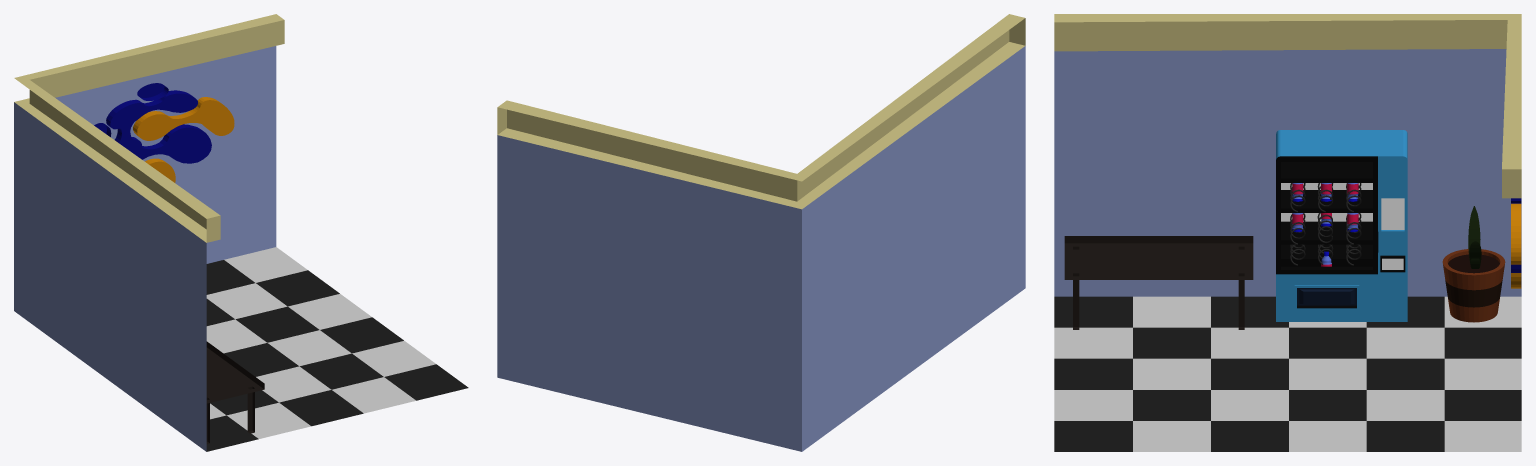
The model's file is AnimatedObject0046.obj.
3 renders of one model, left to right at view 1: azimuth 30°, elevation 25°; view 2: azimuth 150°, elevation 25°; view 3: azimuth 270°, elevation 25°, orthographic. The views are drawn at different scales.
Visible parts, largest first — view 1: ruangan_Cube.003, meja_Cube.004, logo_Circle.005, logo.001_Circle.001, logo.005_Circle.002; view 2: ruangan_Cube.003; view 3: ruangan_Cube.003, vending_machine_Cube.001, meja_Cube.004, pot_bunga_Cylinder, per_second\_Spiral.010, Plane.007, logo_Circle.005.
Part boxes in pixels (x1=…): ruangan_Cube.003: x1=14, y1=14, x2=468, y2=451; meja_Cube.004: x1=206, y1=341, x2=264, y2=444; logo_Circle.005: x1=133, y1=97, x2=234, y2=140; logo.001_Circle.001: x1=115, y1=124, x2=211, y2=163; logo.005_Circle.002: x1=106, y1=90, x2=197, y2=132; ruangan_Cube.003: x1=497, y1=14, x2=1025, y2=451; ruangan_Cube.003: x1=1054, y1=14, x2=1521, y2=451; vending_machine_Cube.001: x1=1276, y1=130, x2=1407, y2=321; meja_Cube.004: x1=1064, y1=236, x2=1253, y2=329; pot_bunga_Cylinder: x1=1442, y1=249, x2=1505, y2=322; per_second\_Spiral.010: x1=1290, y1=183, x2=1361, y2=265; Plane.007: x1=1468, y1=206, x2=1481, y2=268; logo_Circle.005: x1=1511, y1=203, x2=1521, y2=264.
Bounding box in the file's own units: 11.73 × 9.95 × 14.9.
